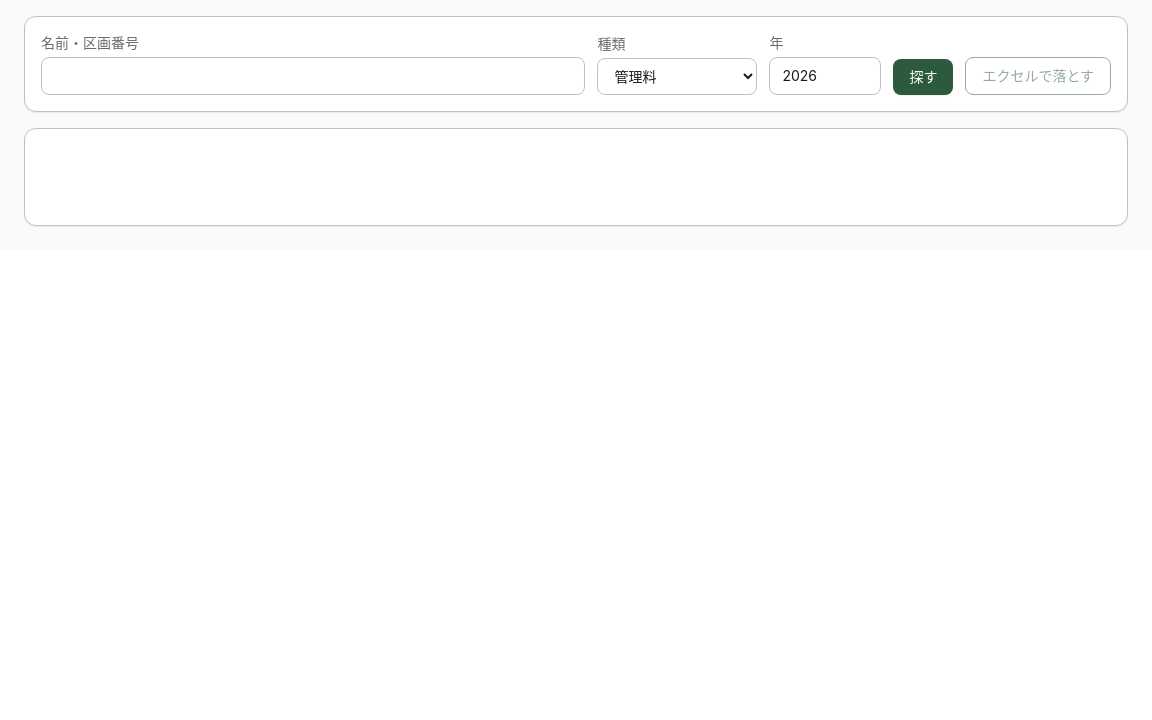
Test: CashierPaymentPage › 権限が無いと入れるボタンが無い、または押せない
Type "田中" into the field at (313,76), box [41,57,585,95]
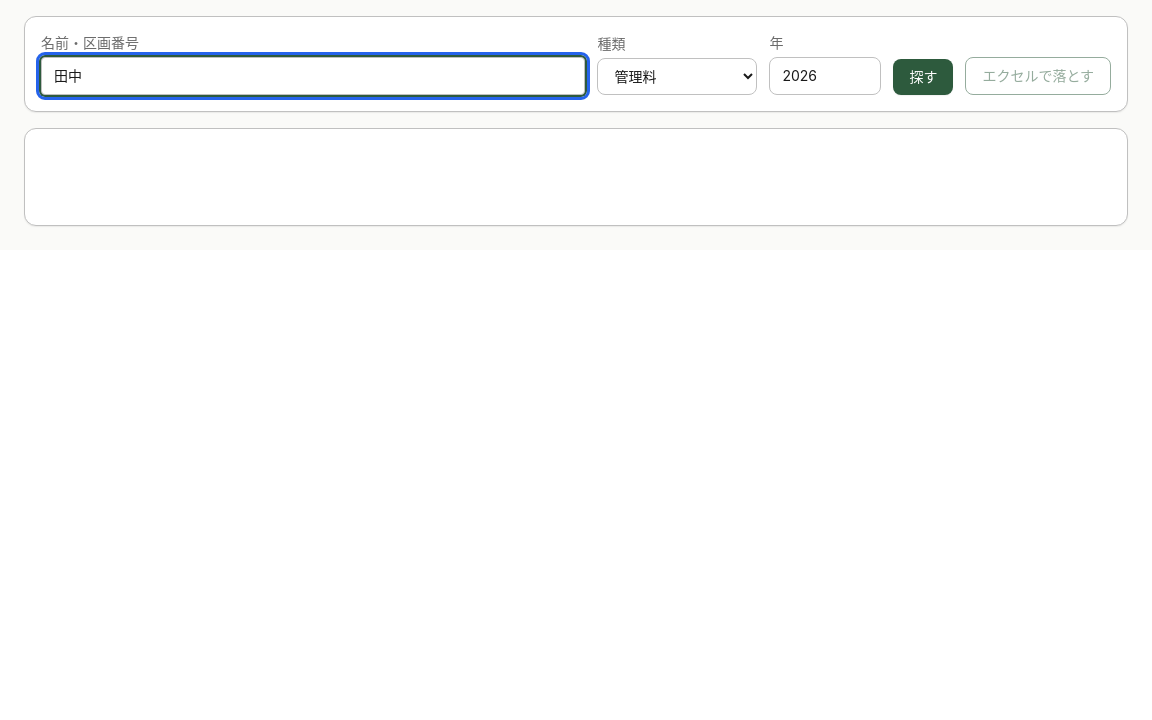
Click the button "探す" at (923,77), box [893,59,953,95]
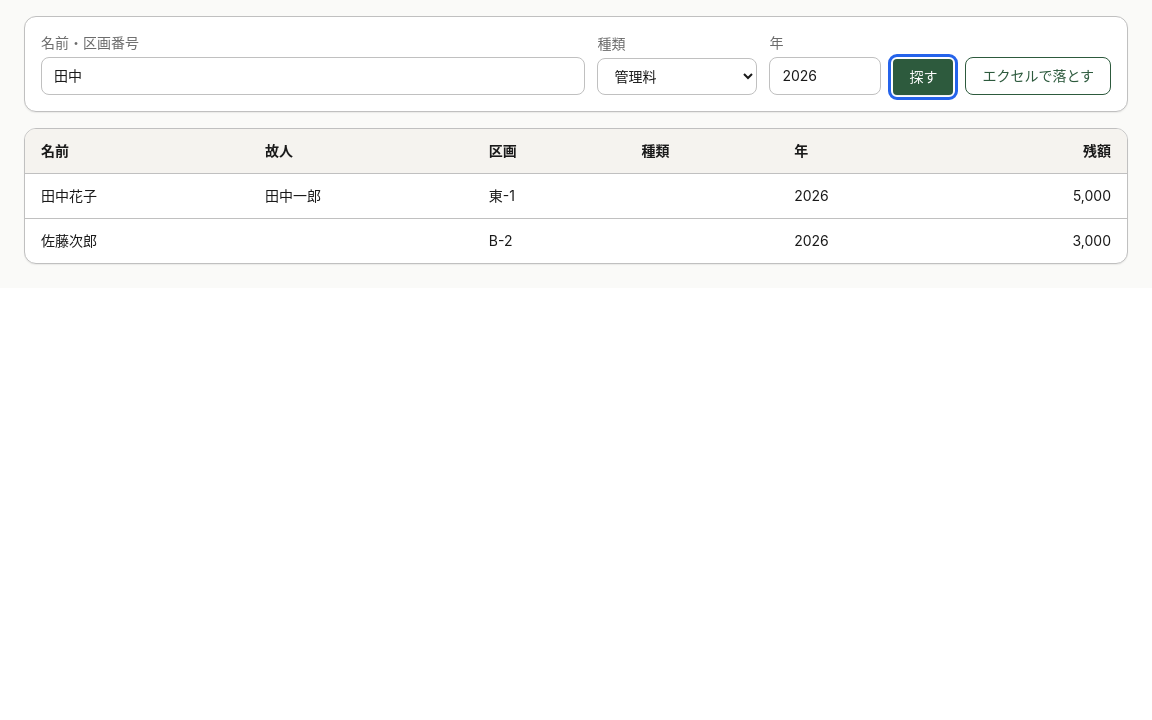
Now the text "田中花子" is shown
Click the text "田中花子" at (69,196), box [25,174,249,218]
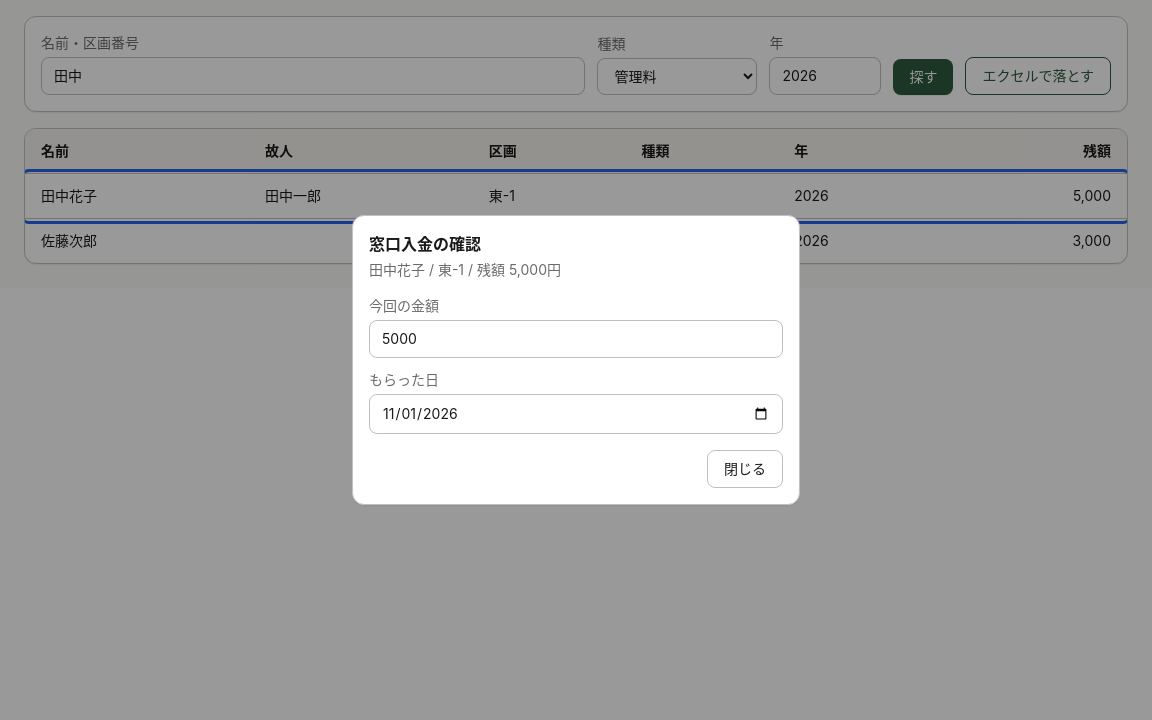
Now the number field labelled "今回の金額" is shown, box [369,320,783,358]
